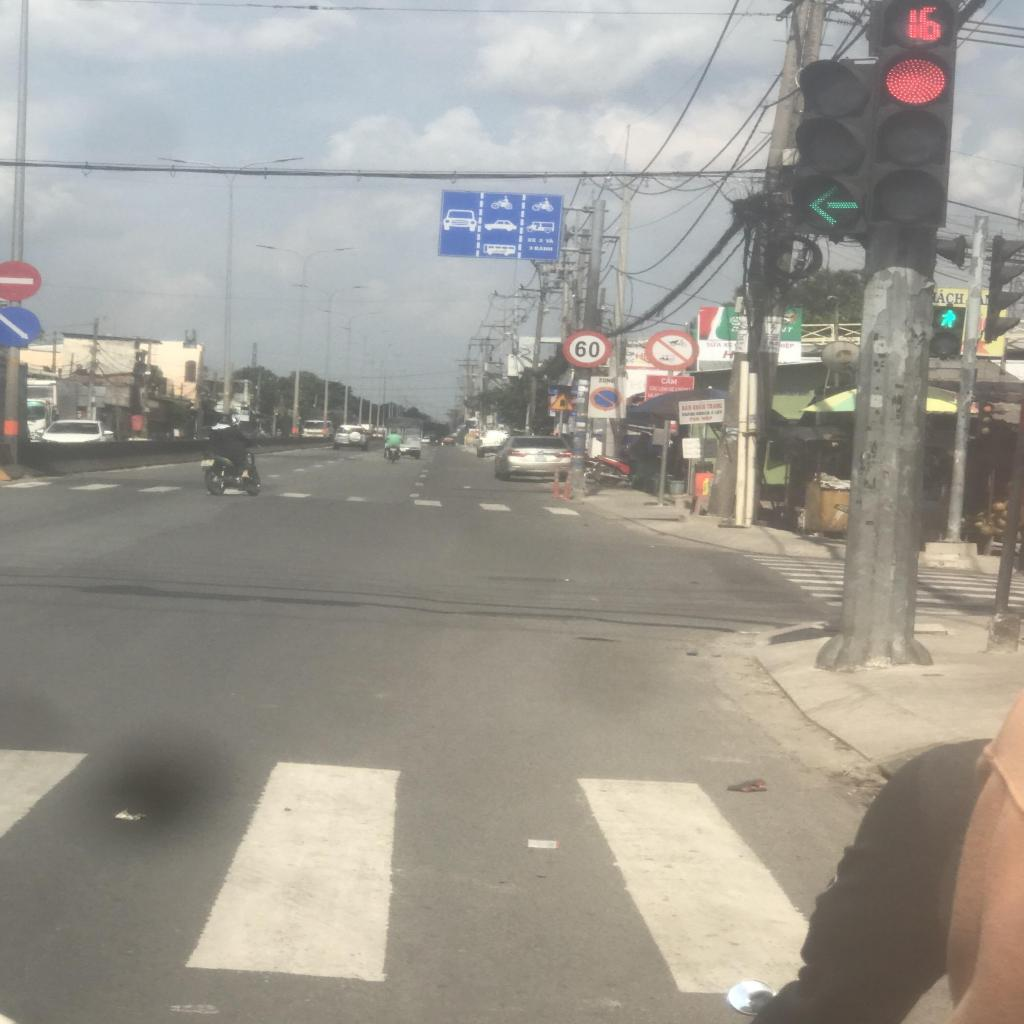cam_cac_loai_xe_3_banh: (642, 328, 700, 372)
cam_do_xe: (588, 385, 622, 411)
cam_xe_di_nguoc_chieu: (0, 260, 43, 303)
giao_nhau_voi_duong_khong_uu_tien: (546, 392, 578, 412)
huong_phai_di_vuot_chuong_ngai_vat_phai: (0, 306, 42, 348)
khac: (438, 190, 562, 260), (645, 376, 694, 401)
toc_do_toi_da_60: (560, 328, 614, 370)
